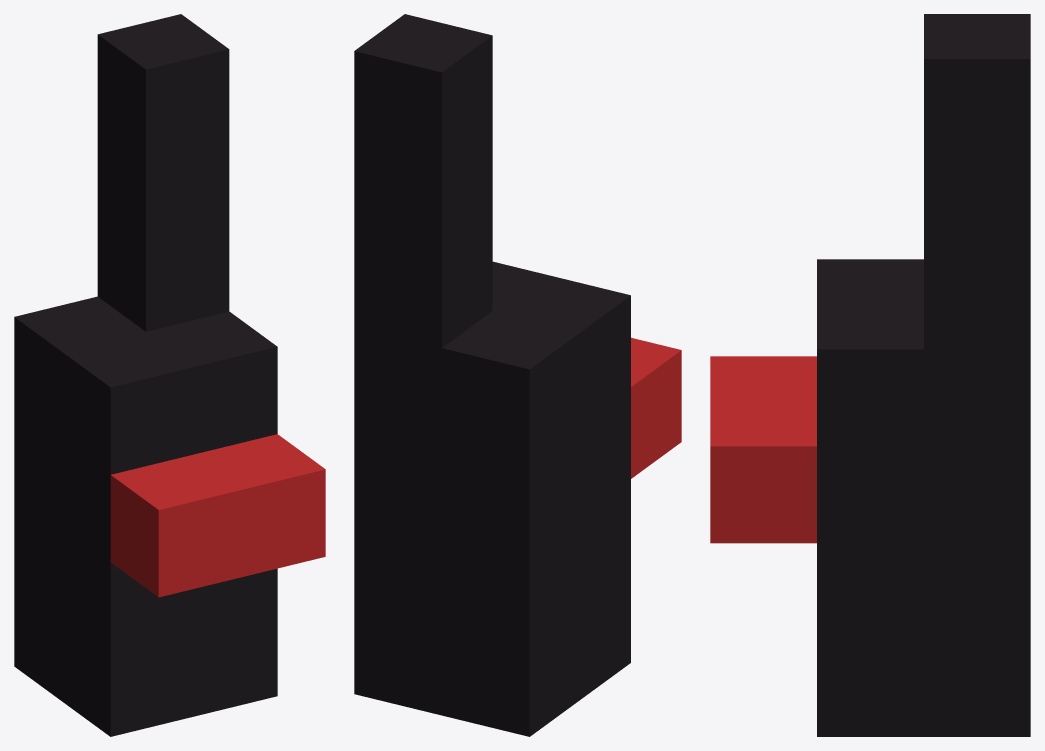
The model's file is walkie.glb.
3 views of the same model, side by side, from view 1: azimuth 30°, elevation 25°; view 2: azimuth 150°, elevation 25°; view 3: azimuth 270°, elevation 25° (orthographic). The views are drawn at different scales.
Parts seen in each view (by area): view 1: walkie; view 2: walkie; view 3: walkie.
Boxes of the visible parts, bbox=[...] form: walkie: bbox=[14, 14, 325, 736]; walkie: bbox=[354, 14, 681, 736]; walkie: bbox=[710, 14, 1030, 736].
Size of the model in its own units: 0.1 by 0.35 by 0.15.
Materials: 1 (1 with a texture image).
